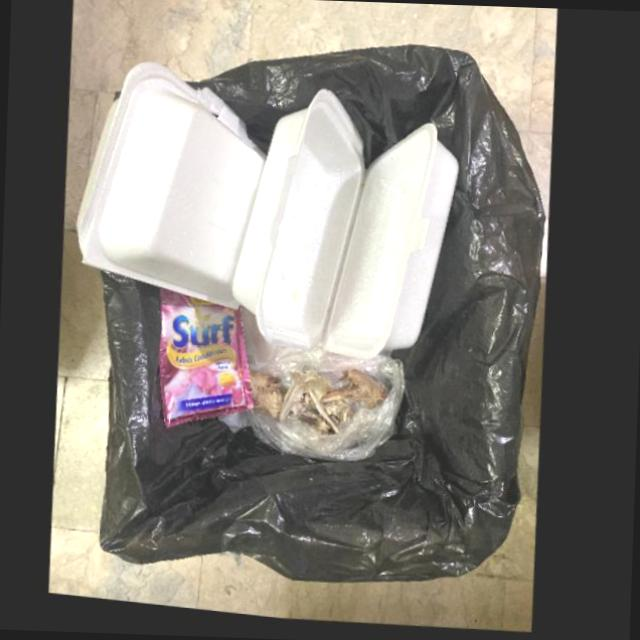goi_nhua_nho: (162, 295, 259, 436)
thuc_an_thua: (256, 374, 391, 439)
tui_ni_long: (254, 353, 409, 466)
xop: (235, 94, 460, 364), (78, 70, 268, 316)
